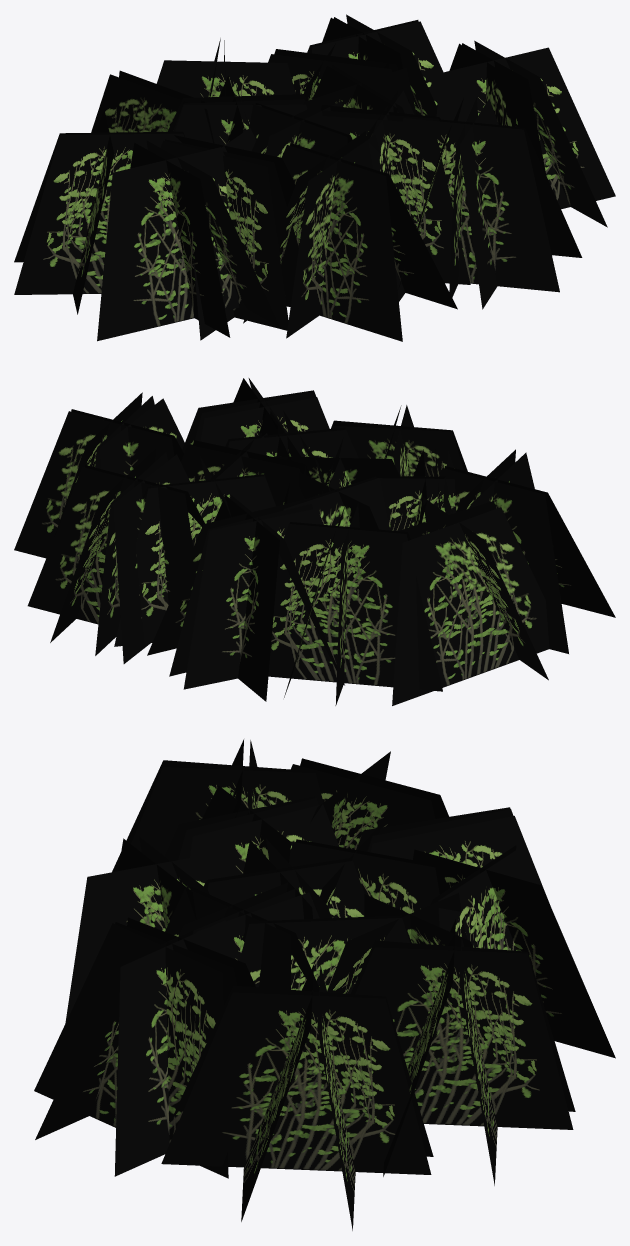
Rendered from grass_green.glb.
3 views of the same model, one above another, from view 1: azimuth 30°, elevation 25°; view 2: azimuth 150°, elevation 25°; view 3: azimuth 270°, elevation 25° (orthographic). The views are drawn at different scales.
Visible parts, largest first — view 1: grass_green_lod_1; view 2: grass_green_lod_1; view 3: grass_green_lod_1.
Boxes of the visible parts, x1,y1,x2,y2 form: grass_green_lod_1: [14, 14, 615, 341]; grass_green_lod_1: [14, 378, 615, 705]; grass_green_lod_1: [34, 739, 615, 1230].
Bounding box in the file's own units: 3.98 × 1.09 × 3.01.
Materials: 1 (1 with a texture image).
